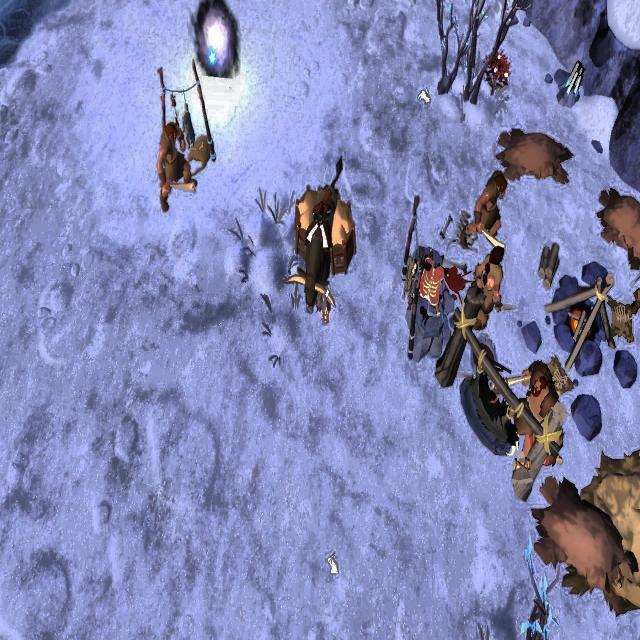enemy_factionKeeper: (459, 172, 507, 246), (156, 115, 197, 199), (467, 244, 506, 324)
fiber_t5: (485, 50, 512, 94)
ore_t4: (558, 59, 583, 99)
